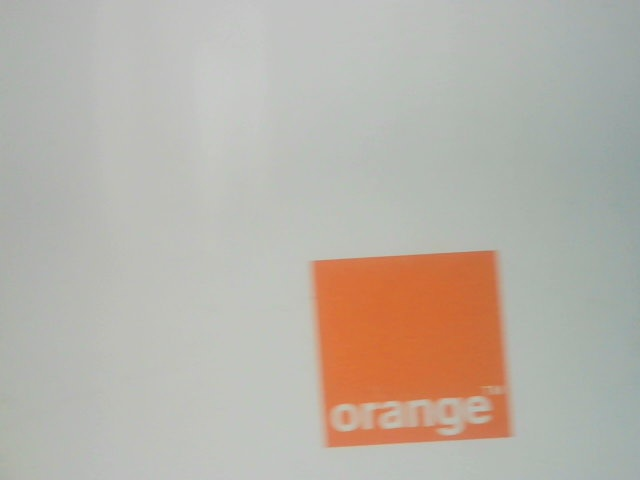AR_Orange: (301, 249, 522, 449)
